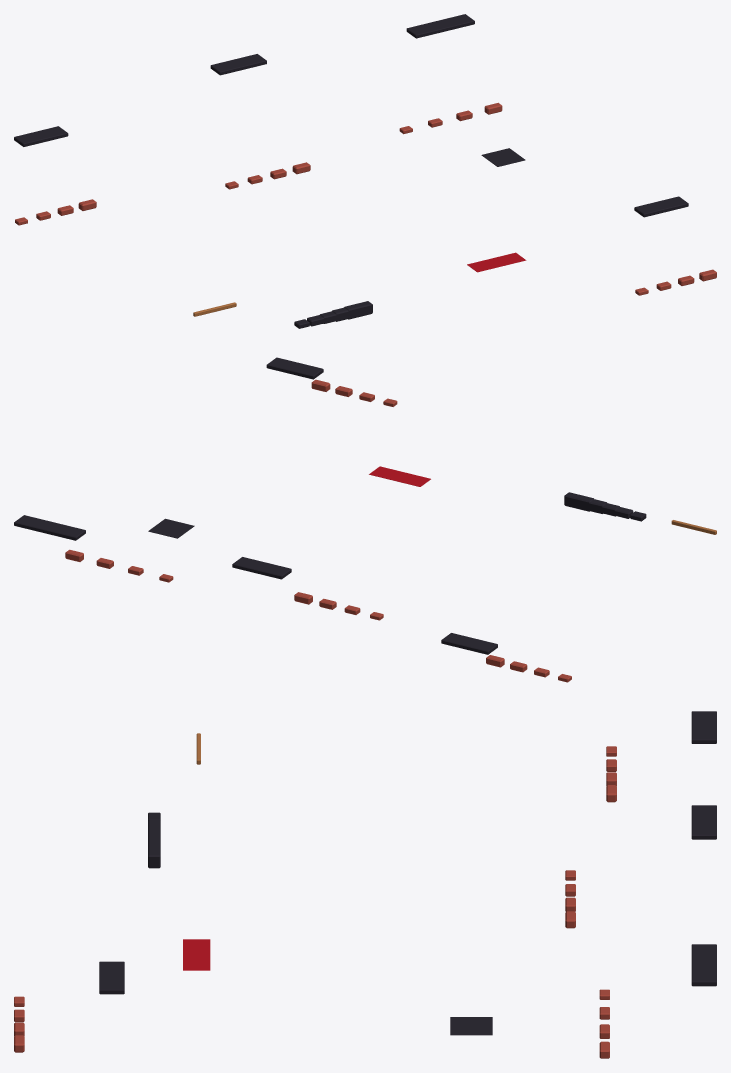
Rendered from D-RES.w5.glb.
The picture shows the model from 3 angles, top to bottom: view 1: azimuth 30°, elevation 25°; view 2: azimuth 150°, elevation 25°; view 3: azimuth 270°, elevation 25°; orthographic projection. The views are drawn at different scales.
Visible parts, largest first — view 1: pal_uiDark.003, pal_brick.003, pal_blood.003; view 2: pal_uiDark.003, pal_brick.003, pal_blood.003; view 3: pal_uiDark.003, pal_brick.003, pal_blood.003.
Part boxes in pixels (<box>): pal_uiDark.003: <box>14,14,688,328</box>; pal_brick.003: <box>15,102,716,295</box>; pal_blood.003: <box>467,252,526,272</box>; pal_uiDark.003: <box>14,357,646,654</box>; pal_brick.003: <box>65,379,571,682</box>; pal_blood.003: <box>369,466,430,486</box>; pal_uiDark.003: <box>99,711,716,1035</box>; pal_brick.003: <box>14,746,616,1058</box>; pal_blood.003: <box>183,939,210,970</box>.
Bounding box in the file's own units: 34.85 × 5.17 × 33.24.
